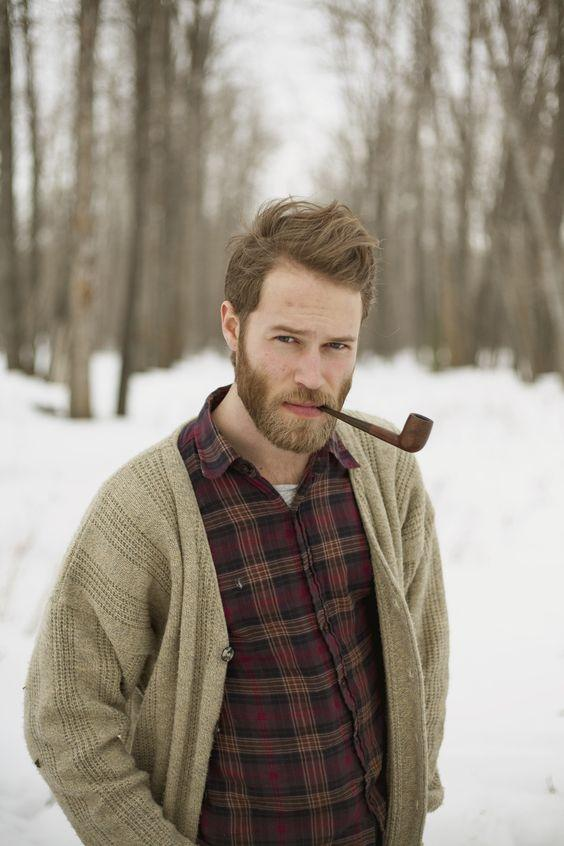trubka: (318, 405, 434, 453)
